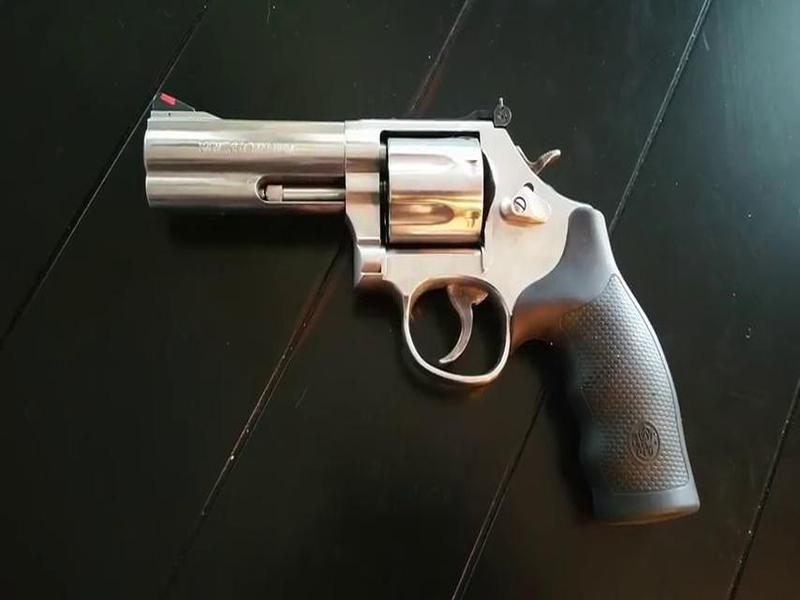Revolver: (123, 84, 769, 554)
